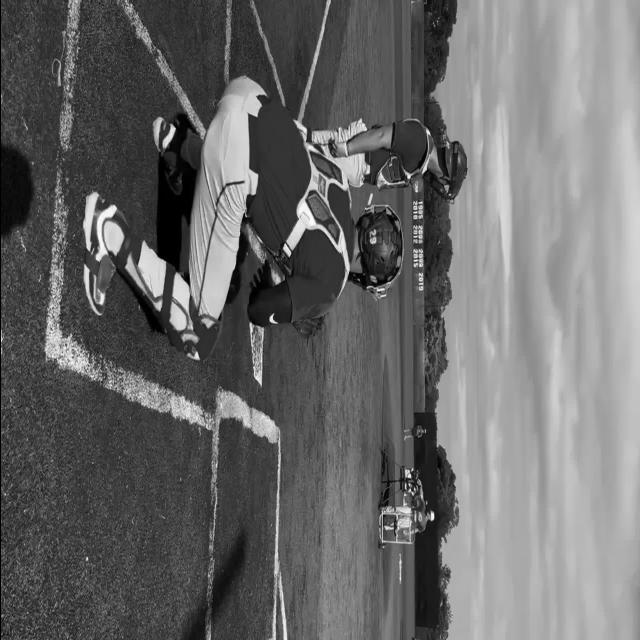base: (248, 299, 264, 385)
shoe: (82, 190, 224, 362), (82, 190, 124, 316), (151, 114, 193, 194)
